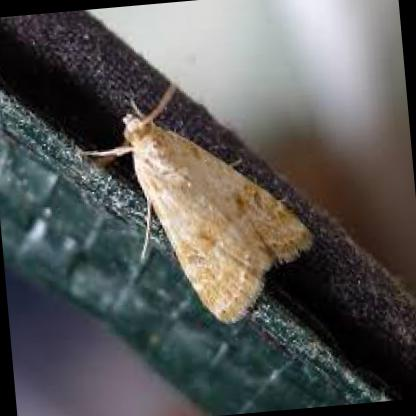Hellula undalis: (64, 71, 317, 332)
